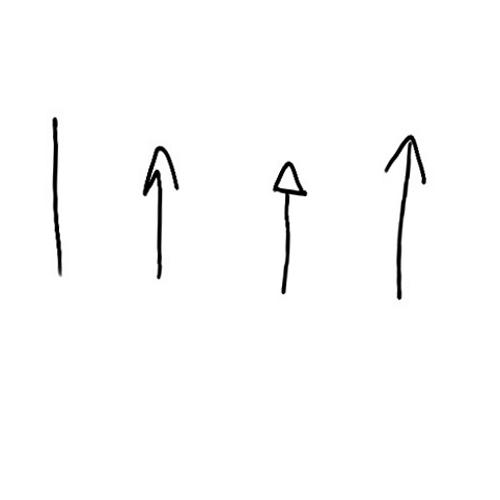arrow: (385, 129, 426, 309), (140, 143, 181, 284), (269, 159, 308, 297), (48, 113, 73, 276)
